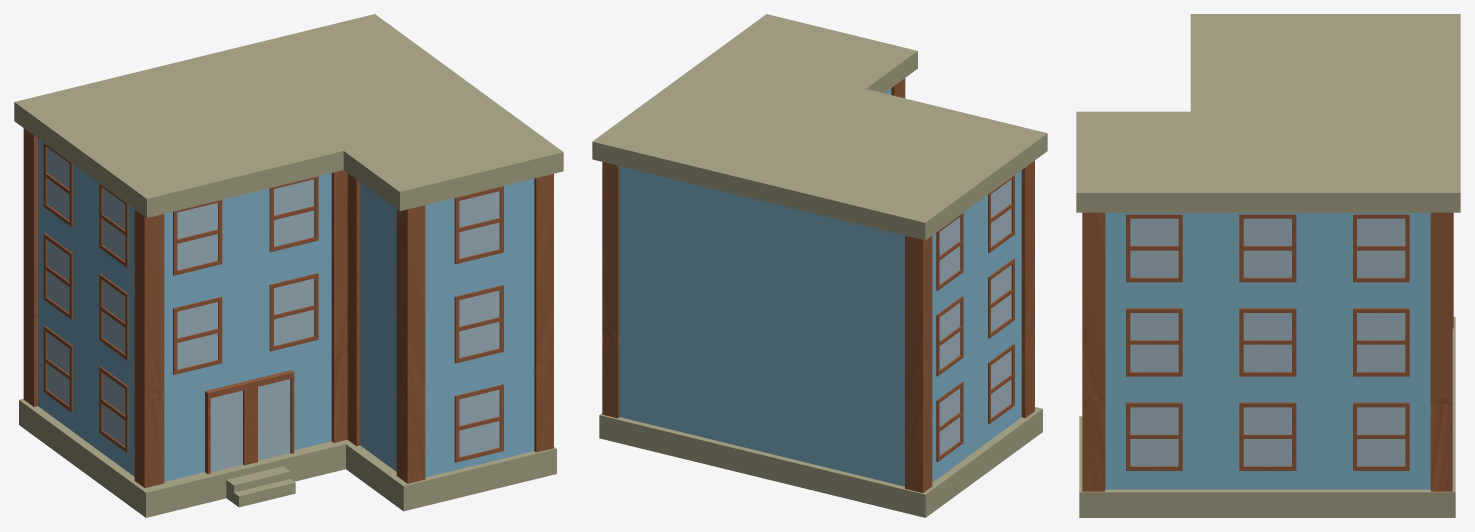
File: building-in-l-003.glb
3 renders of one model, left to right at view 1: azimuth 30°, elevation 25°; view 2: azimuth 150°, elevation 25°; view 3: azimuth 270°, elevation 25°, orthographic. The views are drawn at different scales.
Visible parts, largest first — view 1: Building-in-L-003; view 2: Building-in-L-003; view 3: Building-in-L-003.
Boxes of the visible parts, x1,y1,x2,y2 form: Building-in-L-003: (14, 14, 563, 517); Building-in-L-003: (592, 14, 1047, 517); Building-in-L-003: (1076, 14, 1460, 517).
Bounding box in the file's own units: 4.32 × 3.68 × 3.92.
1 material, 1 textured.
